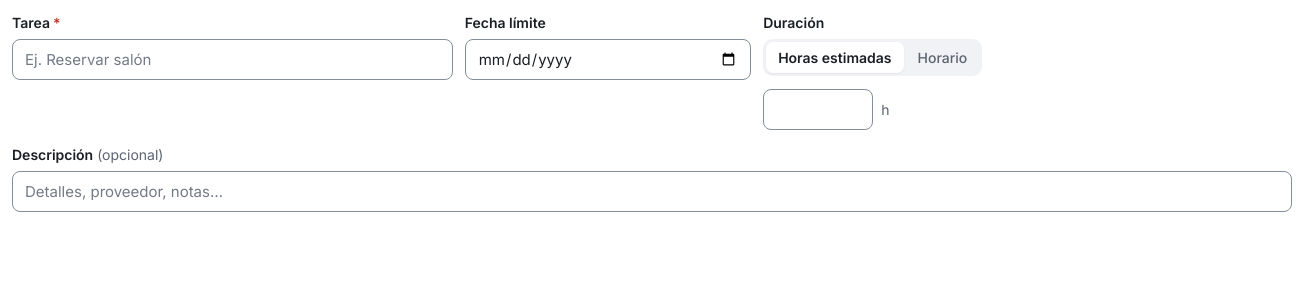
Test case: marca el campo cuando está mal › quita la marca cuando se corrige
Click the radio button labelled "Horario": (942, 58) [906,42,979,73]
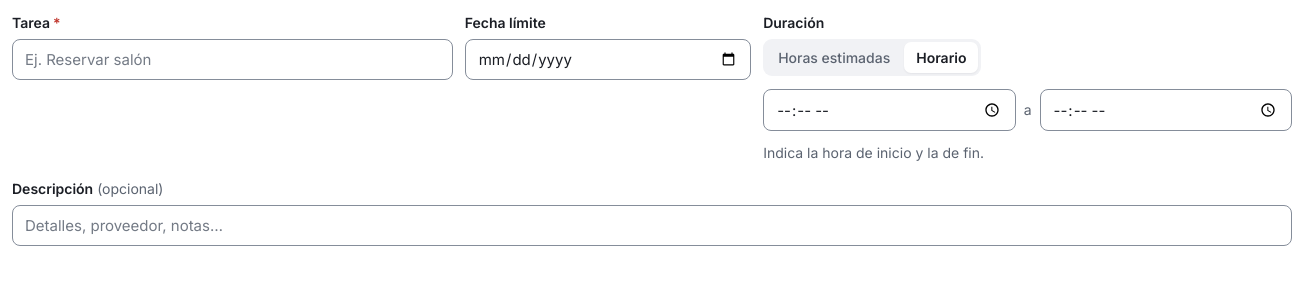
In the time field named "Hora de inicio": (889, 110) [763,89,1016,131], type "11:00"
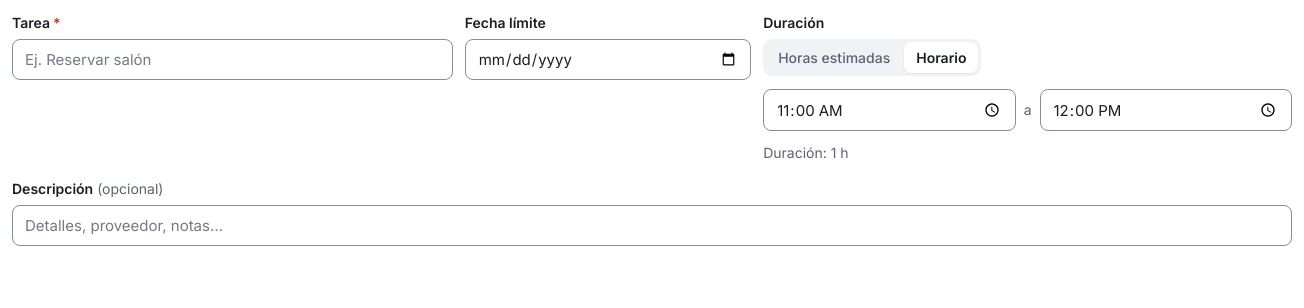
Replace the text in the time field named "Hora de fin" with "09:00": (1166, 110) [1040,89,1292,131]
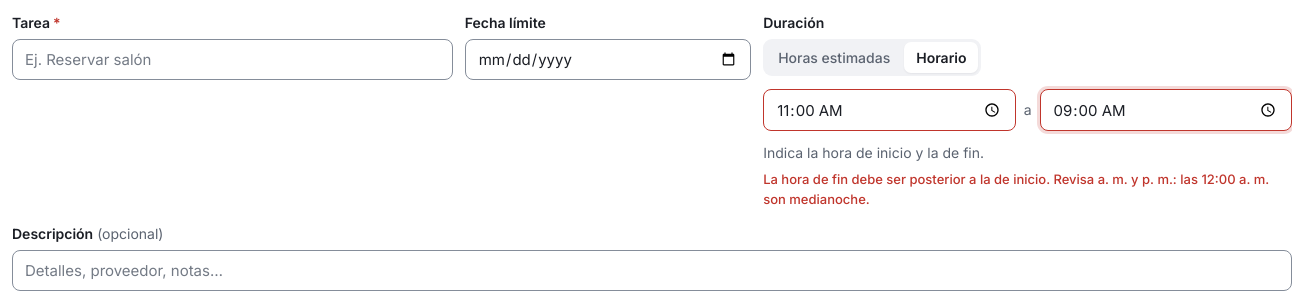
Replace the text in the time field named "Hora de fin" with "12:30": (1166, 110) [1040,89,1292,131]
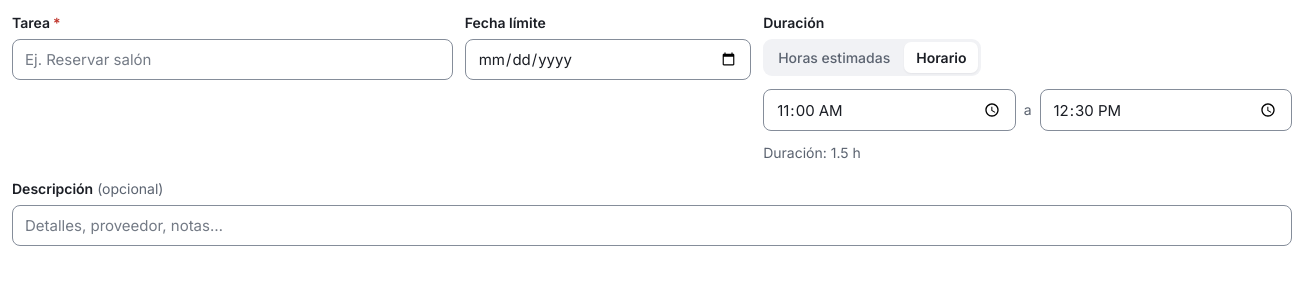
Expected: the text "debe ser posterior" is gone
